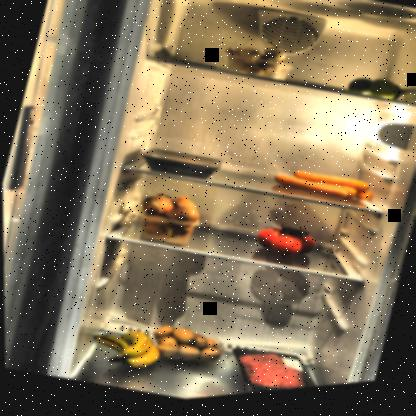banana: (80, 318, 167, 382)
carrot: (264, 158, 379, 222)
chicken: (136, 142, 225, 192)
chocolate: (170, 58, 218, 78)
ground_beef: (220, 340, 329, 399)
lime: (344, 76, 406, 115)
mushrooms: (219, 36, 295, 92)
onion: (127, 184, 204, 257)
potato: (143, 316, 226, 376)
tomato: (250, 221, 319, 273)
